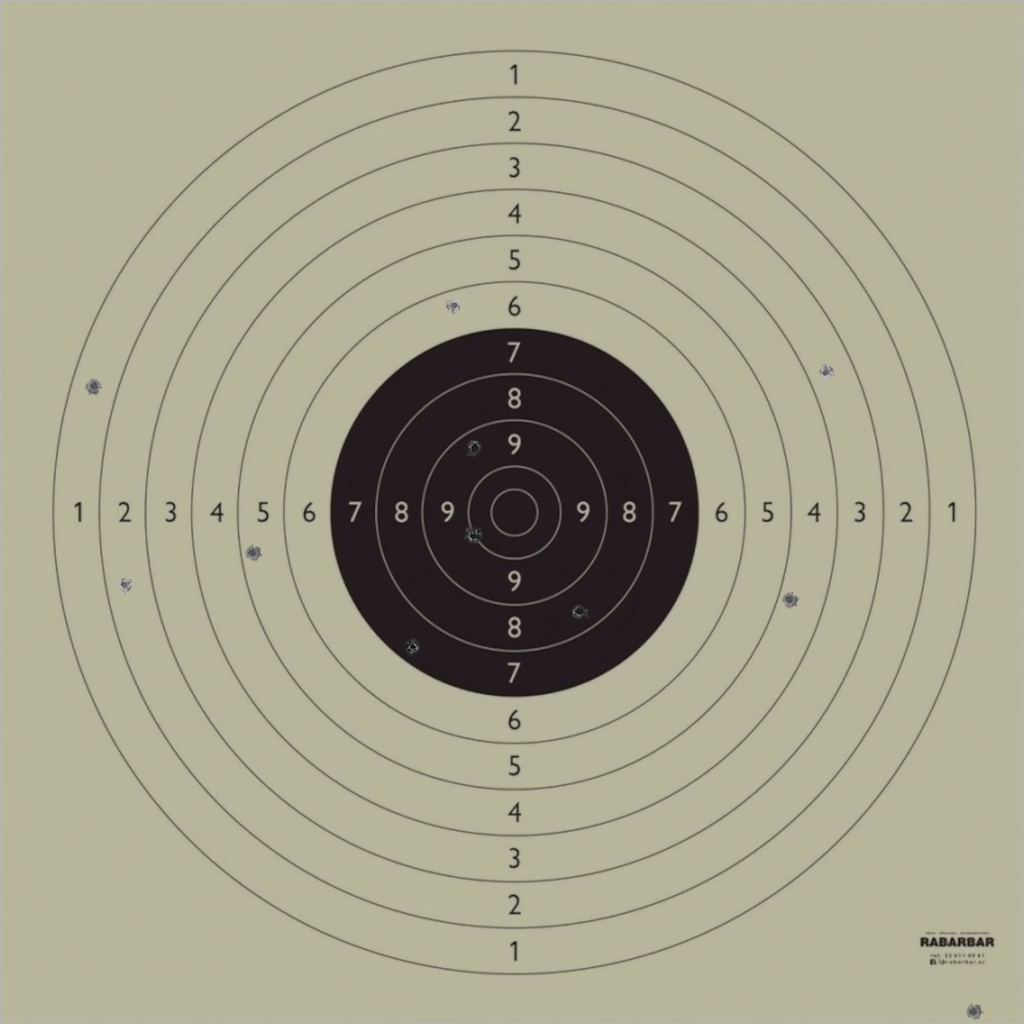0 punktow: (965, 1003, 983, 1021)
1 punkt: (84, 377, 103, 396)
10 punktow: (464, 527, 482, 545)
2 punkty: (115, 575, 134, 594)
3 punkty: (817, 363, 835, 381)
4 punkty: (781, 591, 799, 609)
5 punktow: (244, 544, 262, 562)
6 punktow: (445, 296, 463, 315)
7 punktow: (404, 638, 422, 656)
8 punktow: (570, 602, 589, 621)
9 punktow: (465, 439, 484, 457)
